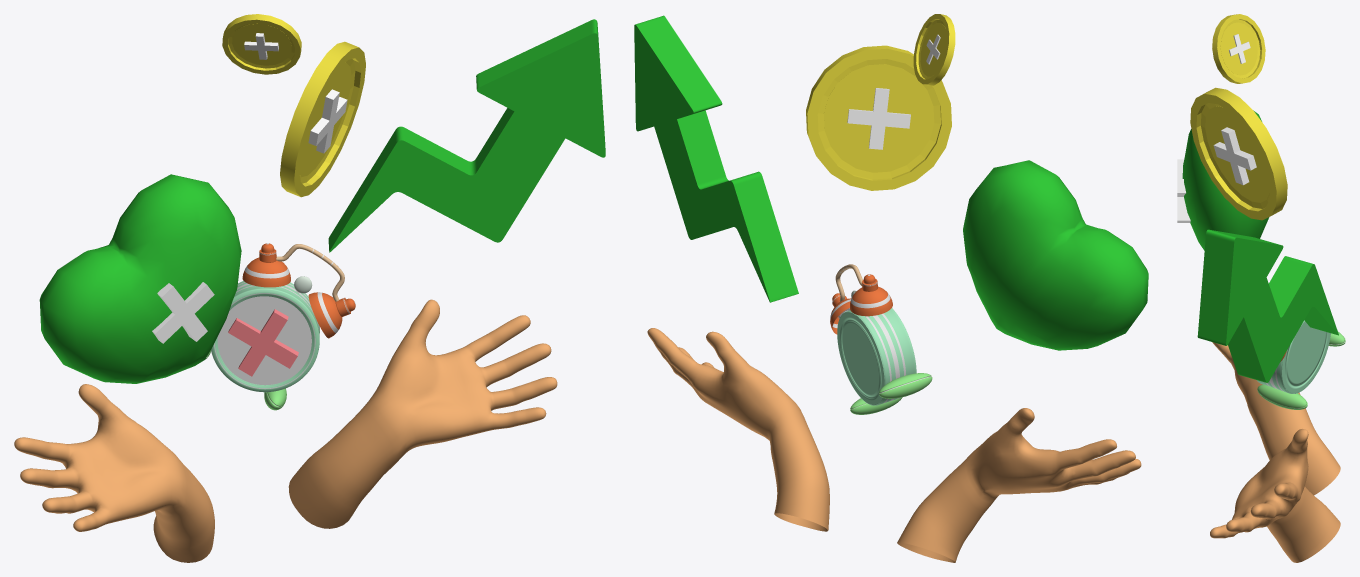
The model's file is Benefits.glb.
3 views of the same model, side by side, from view 1: azimuth 30°, elevation 25°; view 2: azimuth 150°, elevation 25°; view 3: azimuth 270°, elevation 25° (orthographic). The views are drawn at different scales.
Parts seen in each view (by area): view 1: polySurface2, pasted__Heart, Cube, pasted__Ten_Pesos, pasted__Overlay2, pasted__Ten_Pesos1, pasted__Body, pasted__pCube1.001, pasted__Ringer, pasted__pCube1, pasted__pCube2; view 2: polySurface2, pasted__Heart, Cube, pasted__Ten_Pesos, pasted__Body, pasted__Ten_Pesos1, pasted__pCube2, pasted__Kugel, pasted__Ringer; view 3: Cube, polySurface2, pasted__Ten_Pesos, pasted__Heart, pasted__Ten_Pesos1, pasted__Body, pasted__pCube2, pasted__Kugel, pasted__pCube1, pasted__pCube3.
Boxes of the visible parts, x1=… form: polySurface2: x1=14, y1=299, x2=557, y2=562; pasted__Heart: x1=39, y1=174, x2=241, y2=383; Cube: x1=328, y1=19, x2=605, y2=252; pasted__Ten_Pesos: x1=280, y1=41, x2=365, y2=197; pasted__Overlay2: x1=217, y1=296, x2=311, y2=385; pasted__Ten_Pesos1: x1=222, y1=14, x2=301, y2=74; pasted__Body: x1=211, y1=281, x2=319, y2=392; pasted__pCube1.001: x1=228, y1=309, x2=298, y2=376; pasted__Ringer: x1=242, y1=257, x2=342, y2=338; pasted__pCube1: x1=152, y1=282, x2=214, y2=343; pasted__pCube2: x1=308, y1=89, x2=347, y2=153; polySurface2: x1=647, y1=328, x2=1141, y2=562; pasted__Heart: x1=963, y1=160, x2=1148, y2=350; Cube: x1=634, y1=15, x2=798, y2=302; pasted__Ten_Pesos: x1=806, y1=45, x2=951, y2=190; pasted__Body: x1=837, y1=308, x2=916, y2=405; pasted__Ten_Pesos1: x1=913, y1=14, x2=955, y2=85; pasted__pCube2: x1=847, y1=88, x2=910, y2=149; pasted__Kugel: x1=850, y1=373, x2=932, y2=414; pasted__Ringer: x1=830, y1=286, x2=892, y2=334; Cube: x1=1197, y1=229, x2=1338, y2=382; polySurface2: x1=1210, y1=342, x2=1340, y2=562; pasted__Ten_Pesos: x1=1190, y1=87, x2=1287, y2=220; pasted__Heart: x1=1182, y1=110, x2=1269, y2=250; pasted__Ten_Pesos1: x1=1212, y1=14, x2=1265, y2=83; pasted__Body: x1=1257, y1=320, x2=1330, y2=393; pasted__pCube2: x1=1213, y1=127, x2=1256, y2=185; pasted__Kugel: x1=1257, y1=331, x2=1345, y2=409; pasted__pCube1: x1=1177, y1=159, x2=1190, y2=222; pasted__pCube3: x1=1229, y1=34, x2=1250, y2=63.
Bounding box in the file's own units: 4.77 × 4.55 × 1.4.
